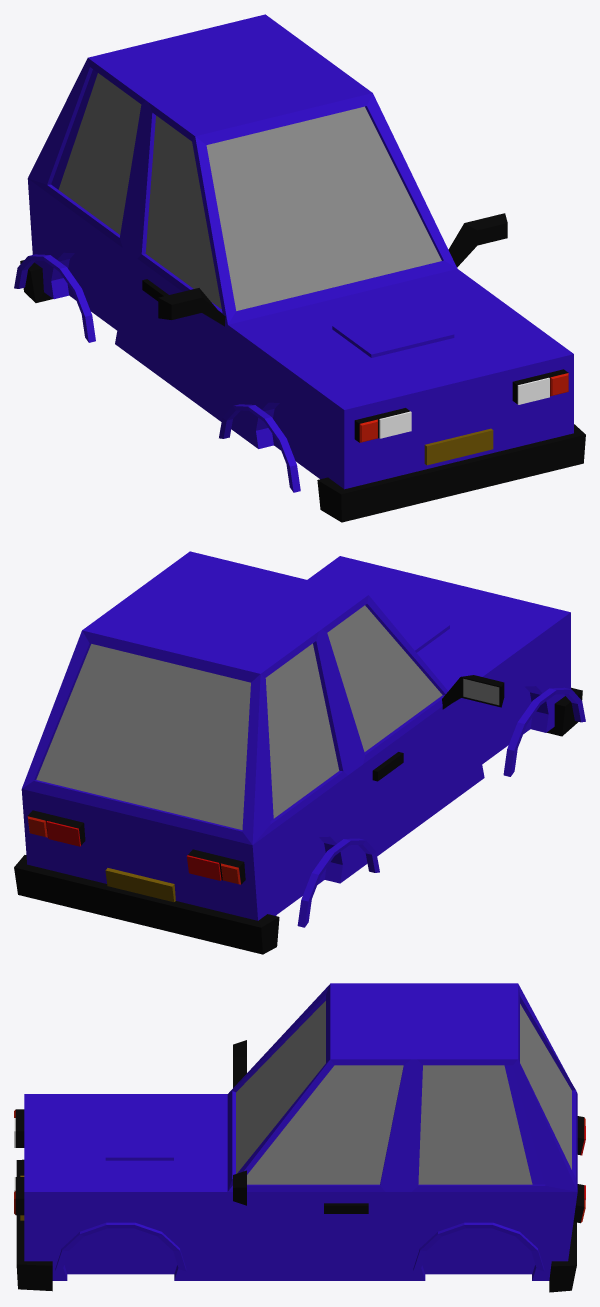
Rendered from CarP.obj.
3 views of the same model, one above another, from view 1: azimuth 30°, elevation 25°; view 2: azimuth 150°, elevation 25°; view 3: azimuth 270°, elevation 25° (orthographic). The views are drawn at different scales.
Parts seen in each view (by area): view 1: Car_Body, Back, Front; view 2: Car_Body, Front, Back; view 3: Car_Body, Front, Back.
Part boxes in pixels (x1=…): Car_Body: x1=20, y1=14, x2=585, y2=522; Back: x1=14, y1=254, x2=95, y2=342; Front: x1=219, y1=404, x2=300, y2=492; Car_Body: x1=14, y1=551, x2=582, y2=954; Front: x1=503, y1=687, x2=585, y2=776; Back: x1=297, y1=838, x2=379, y2=927; Car_Body: x1=14, y1=983, x2=585, y2=1292; Front: x1=55, y1=1222, x2=186, y2=1271; Back: x1=413, y1=1222, x2=544, y2=1271.
Size of the model in its own units: 5.22 by 3.6 by 8.53.
